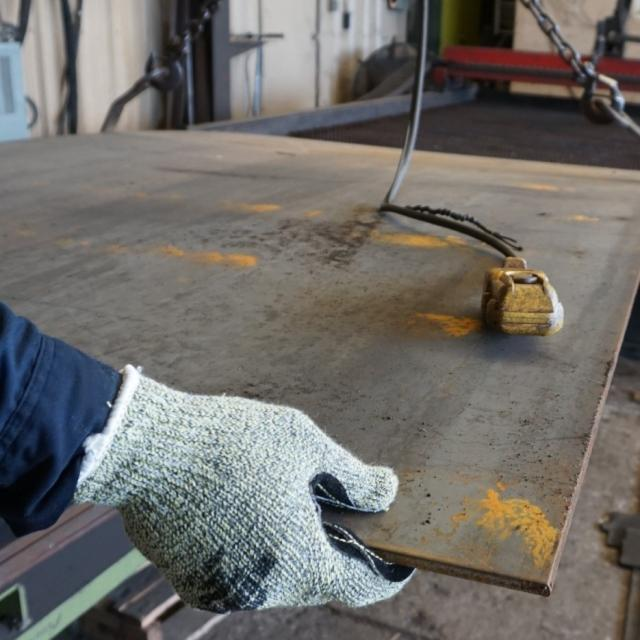gloves: (69, 361, 420, 617)
